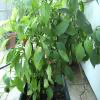Bell_pepper leaf: (38, 34, 51, 57), (55, 19, 71, 36), (22, 59, 32, 84), (75, 42, 86, 63), (41, 1, 50, 26), (76, 9, 86, 31), (24, 38, 33, 60), (84, 38, 94, 56), (33, 49, 41, 69), (41, 27, 52, 37)
